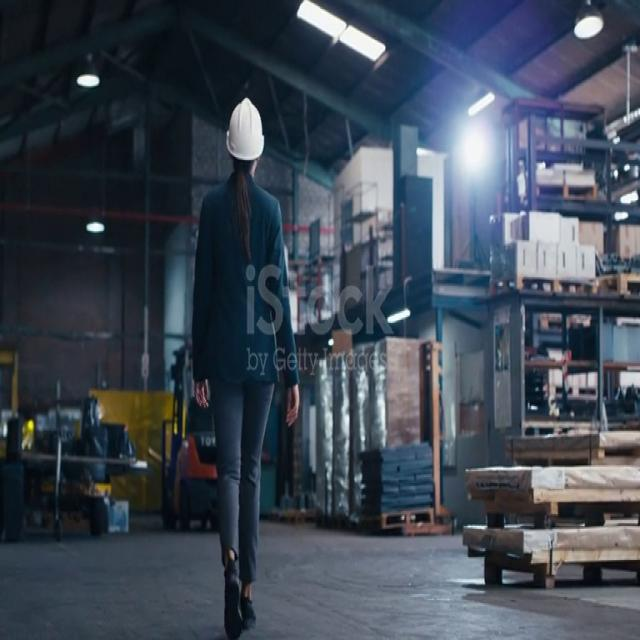capacete: (212, 70, 276, 170)
